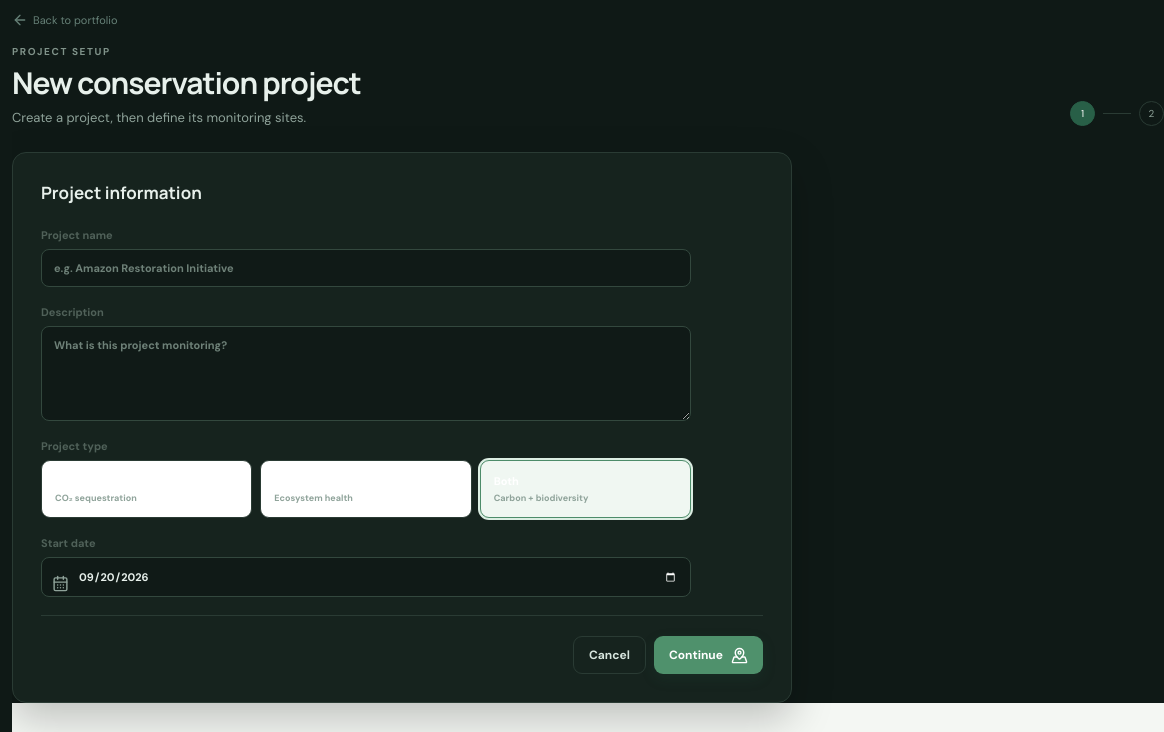
it: CreateProject — Story 1 › refuses to continue without a project name
What coordinates should you click on to do the following:
click the button "Continue"
I would click on:
 (708, 655)
Its box is [654,636,763,674].
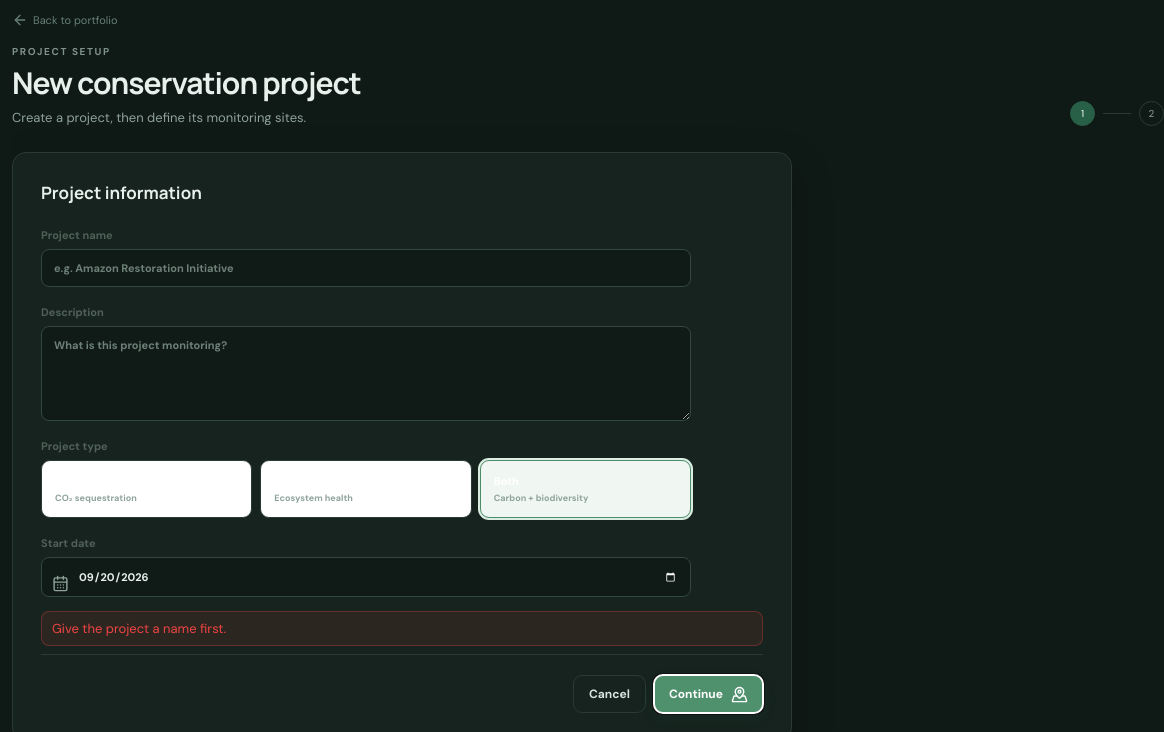
Check: the text "Give the project a name first." is shown, box [41,611,763,646]
